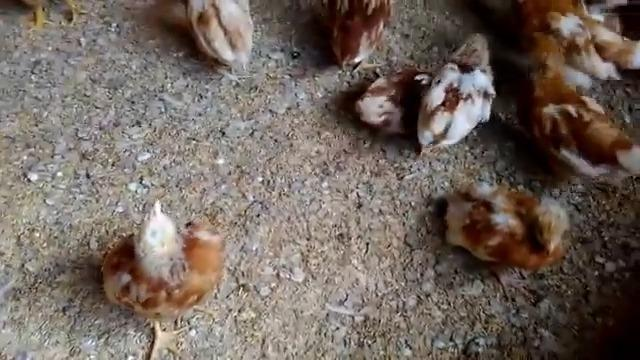AbNormal: (97, 193, 235, 327)
